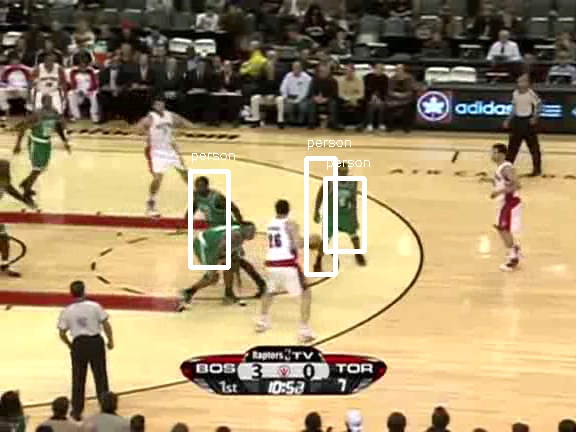person: (327, 169, 361, 250), (326, 169, 360, 250), (328, 169, 362, 250), (327, 168, 361, 249), (327, 170, 361, 251)
target_negative: (451, 53, 549, 297), (323, 286, 476, 396), (556, 321, 574, 394), (451, 229, 492, 260), (416, 238, 420, 376), (514, 395, 536, 400)
